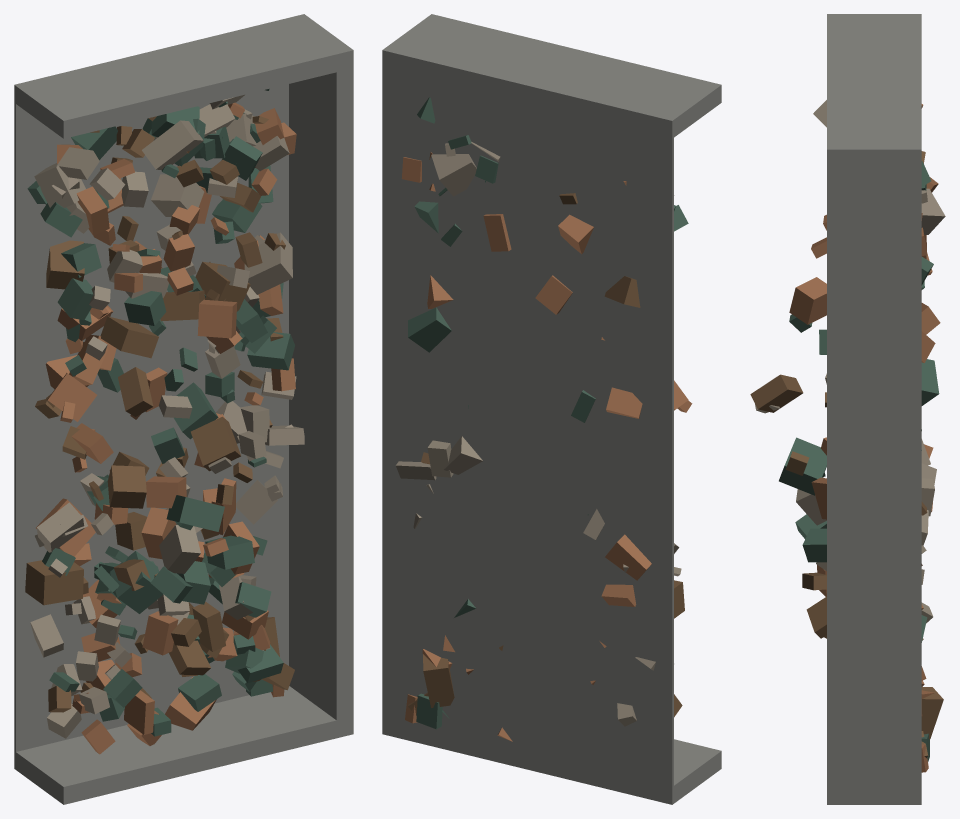
File: bunker.obj
The picture shows the model from 3 angles, left to right: view 1: azimuth 30°, elevation 25°; view 2: azimuth 150°, elevation 25°; view 3: azimuth 270°, elevation 25°; orthographic projection. The views are drawn at different scales.
Parts seen in each view (by area): view 1: bunker_slab.006, retaining_wall_east.006, retaining_wall_north.006, retaining_wall_south.006, waste_chunk.1971, waste_chunk.2010, waste_chunk.1934, waste_chunk.1996, waste_chunk.1876, waste_chunk.2013, waste_chunk.2004, waste_chunk.2000 (+70 smaller); view 2: bunker_slab.006, retaining_wall_north.006, retaining_wall_east.006, retaining_wall_south.006, waste_chunk.1961, waste_chunk.1830, waste_chunk.2088, waste_chunk.1920, waste_chunk.1887, waste_chunk.1851, waste_chunk.1860, waste_chunk.1983 (+6 smaller); view 3: retaining_wall_east.006, retaining_wall_north.006, waste_chunk.1958, waste_chunk.1859, waste_chunk.1996, waste_chunk.2088, waste_chunk.1880, waste_chunk.1961, waste_chunk.1830, waste_chunk.2085, waste_chunk.2004, waste_chunk.1913 (+4 smaller).
Part boxes in pixels (x1,y1,x2,y2): bunker_slab.006: (14, 84, 288, 760); retaining_wall_east.006: (287, 14, 353, 737); retaining_wall_north.006: (14, 16, 345, 138); retaining_wall_south.006: (14, 686, 345, 804); waste_chunk.1971: (25, 560, 83, 605); waste_chunk.2010: (244, 232, 292, 294); waste_chunk.1934: (142, 120, 203, 169); waste_chunk.1996: (191, 416, 240, 471); waste_chunk.1876: (107, 465, 146, 508); waste_chunk.2013: (100, 316, 158, 358); waste_chunk.2004: (159, 525, 200, 573); waste_chunk.2000: (151, 174, 204, 216); bunker_slab.006: (390, 61, 673, 795); retaining_wall_north.006: (390, 16, 721, 138); retaining_wall_east.006: (382, 14, 448, 736); retaining_wall_south.006: (390, 719, 721, 804); waste_chunk.1961: (431, 154, 476, 196); waste_chunk.1830: (408, 307, 451, 352); waste_chunk.2088: (423, 654, 454, 707); waste_chunk.1920: (605, 534, 651, 580); waste_chunk.1887: (558, 214, 593, 254); waste_chunk.1851: (443, 436, 482, 474); waste_chunk.1860: (606, 387, 642, 418); waste_chunk.1983: (535, 275, 572, 314); retaining_wall_east.006: (827, 141, 921, 804); retaining_wall_north.006: (827, 14, 921, 145); waste_chunk.1958: (779, 437, 826, 495); waste_chunk.1859: (789, 277, 826, 324); waste_chunk.1996: (750, 374, 803, 412); waste_chunk.2088: (921, 687, 943, 739); waste_chunk.1880: (802, 528, 826, 562); waste_chunk.1961: (921, 188, 945, 234); waste_chunk.1830: (921, 359, 939, 405); waste_chunk.2085: (806, 596, 826, 638); waste_chunk.2004: (796, 477, 826, 525); waste_chunk.1913: (811, 477, 826, 519).
Size of the model in its own units: 11.85 by 26.72 by 7.21.
